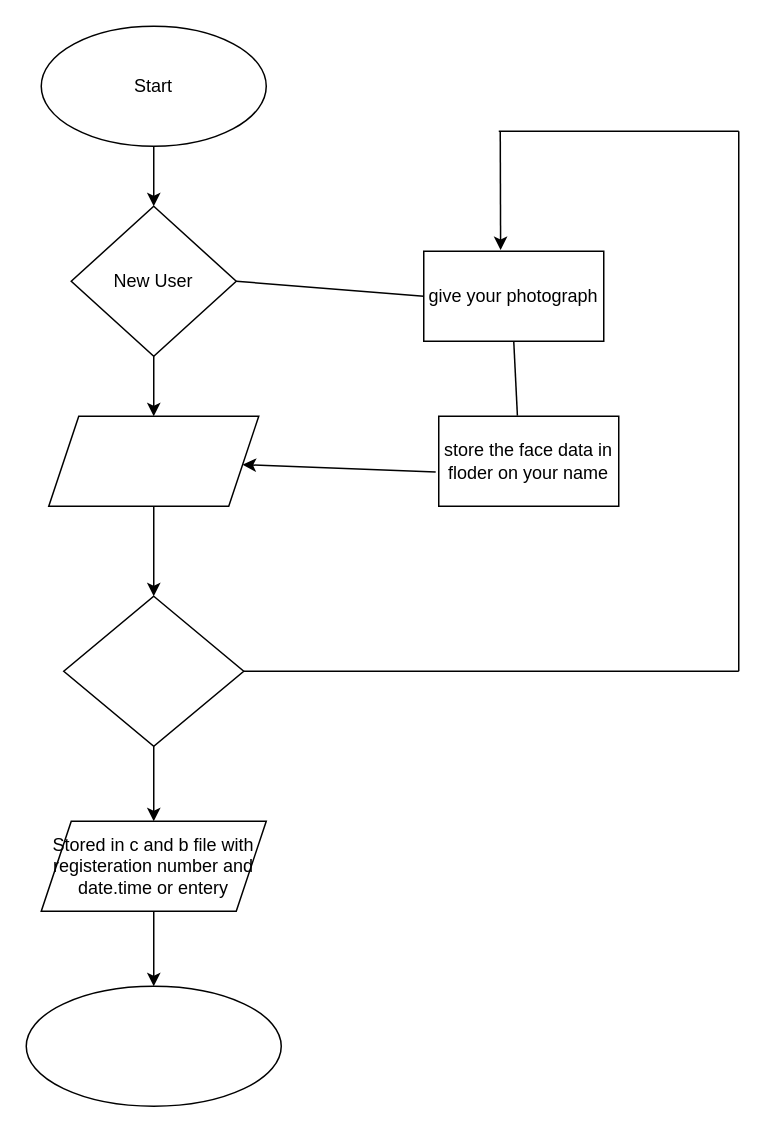
The diagram is 767 pixels wide and 1133 high, and some of its shapes have lost their labels. Each missing label, with the box of its shape:
End: (25, 985, 281, 1106)
Face recognized: (62, 595, 244, 746)
Recognize the Face: (47, 415, 259, 506)
